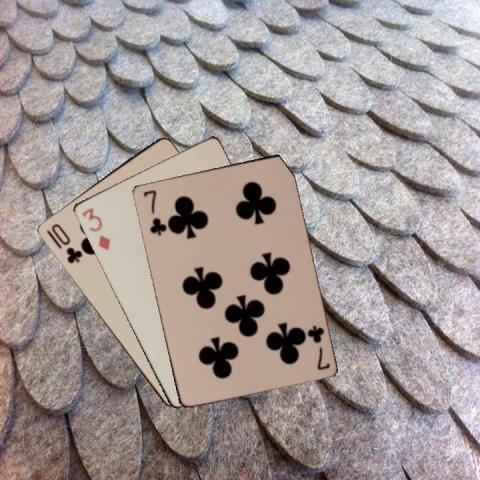10c: (43, 220, 83, 265)
3d: (79, 205, 111, 252)
7c: (303, 322, 331, 371), (140, 186, 166, 237)
